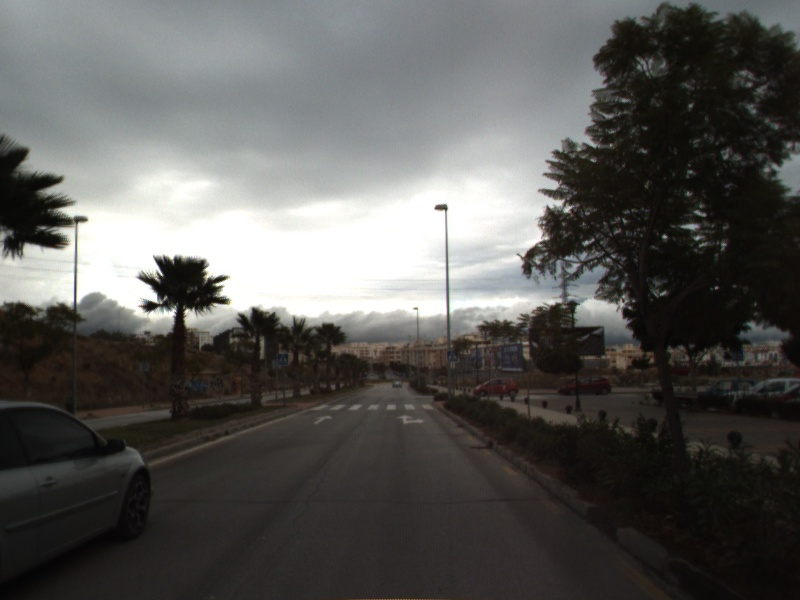STRAIGHT: (311, 413, 334, 426)
STRAIGHT_RIGHT: (395, 413, 427, 426)
